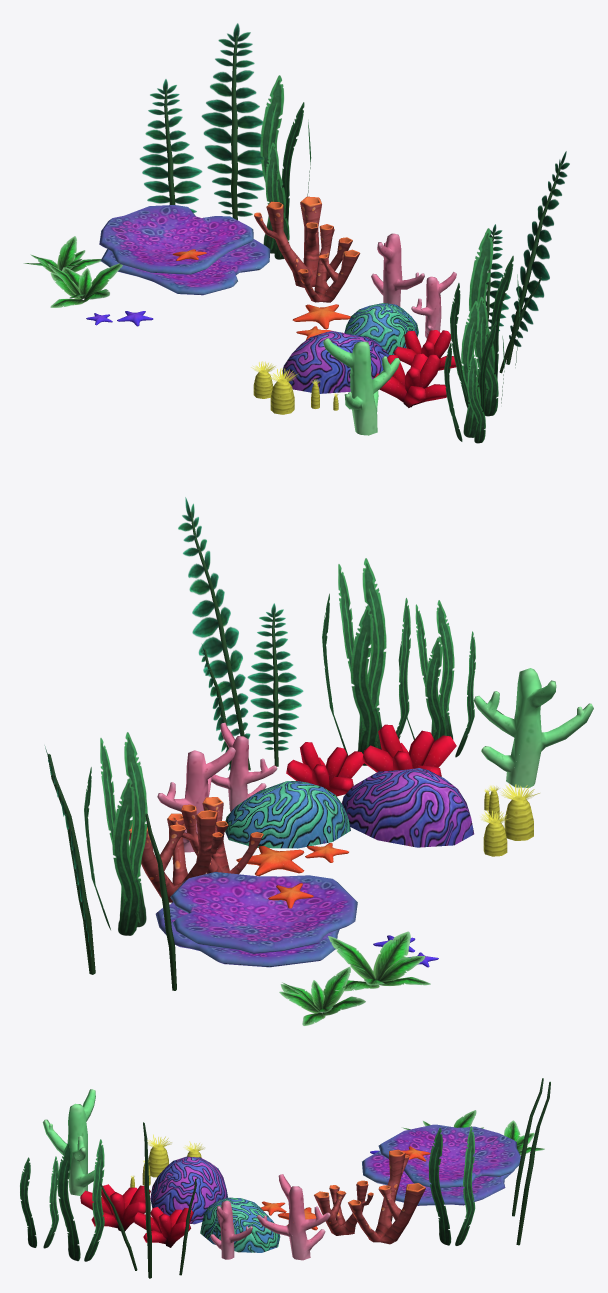
File: deep-sea-scenery.glb
The picture shows the model from 3 angles, top to bottom: view 1: azimuth 30°, elevation 25°; view 2: azimuth 150°, elevation 25°; view 3: azimuth 270°, elevation 25°; orthographic projection. The views are drawn at different scales.
Parts seen in each view (by area): view 1: _gltfNode_1, _gltfNode_2, _gltfNode_0; view 2: _gltfNode_1, _gltfNode_2, _gltfNode_0; view 3: _gltfNode_1, _gltfNode_2, _gltfNode_0.
Part boxes in pixels (x1,y1,x2,y2): _gltfNode_1: [23, 23, 569, 443]; _gltfNode_2: [99, 205, 270, 295]; _gltfNode_0: [344, 303, 418, 354]; _gltfNode_1: [44, 497, 593, 1025]; _gltfNode_2: [155, 872, 357, 967]; _gltfNode_0: [225, 781, 350, 848]; _gltfNode_1: [20, 1078, 550, 1278]; _gltfNode_2: [362, 1124, 520, 1205]; _gltfNode_0: [200, 1197, 280, 1252].
Size of the model in its own units: 17.65 by 9.8 by 25.83.
Materials: 3 (3 with a texture image).
